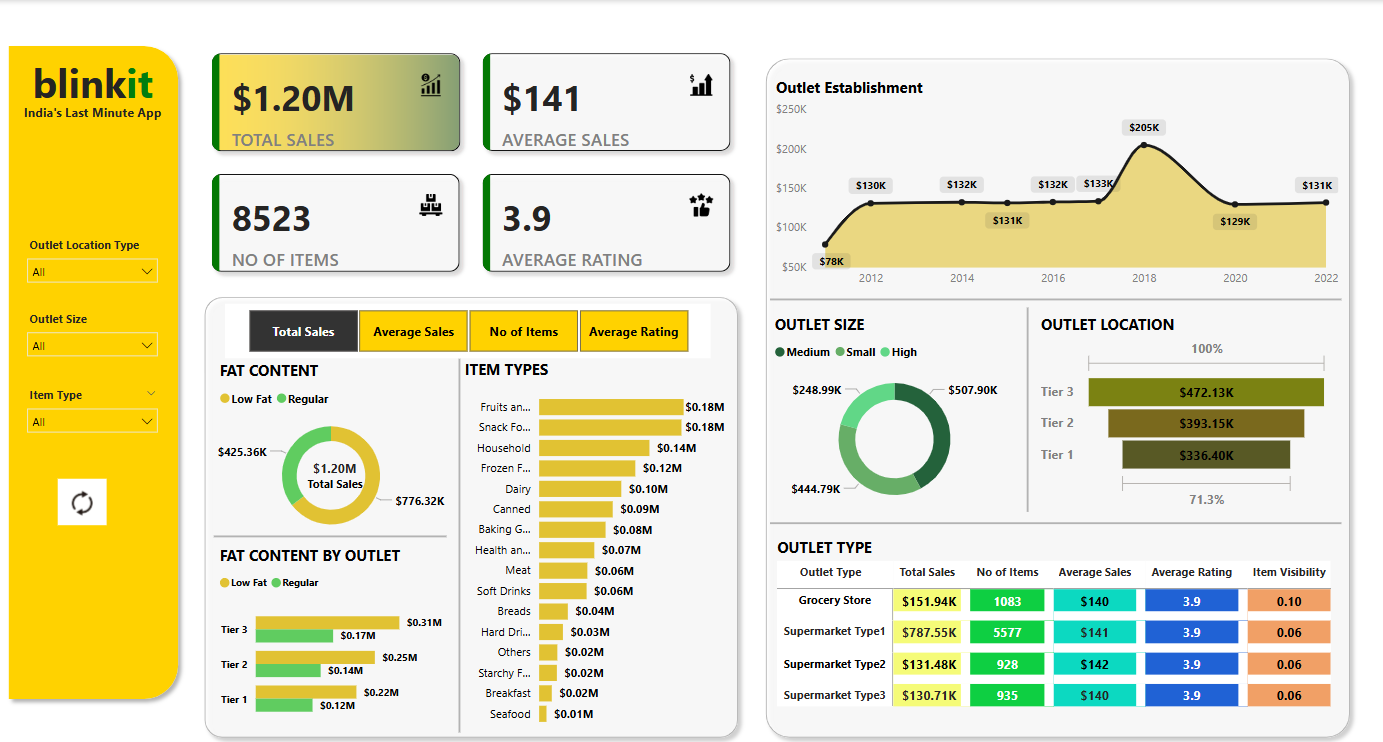

What the dashboard file says about the page in this screenshot:
{"tool":"powerbi","page":{"name":"Page 1","canvas":[1500,800],"ordinal":0},"visuals":[{"type":"shape","box":[0,40.9,200.3,719.5],"z":0},{"type":"textbox","box":[264.4,703.1,200.3,57.2],"z":1000},{"type":"textbox","box":[8.2,53.1,182.6,69.5],"z":2000},{"type":"textbox","box":[264.4,446.9,677.2,46.3],"z":3000},{"type":"textbox","box":[8.2,106.3,182.6,32.7],"z":4000},{"type":"cardVisual","fields":{"Data":["BlinkIT Grocery Data.Total Sales","BlinkIT Grocery Data.Average Sales","BlinkIT Grocery Data.No of Items sold","BlinkIT Grocery Data.Average Rating"]},"box":[209.8,40.9,590,269.8],"z":5000},{"type":"shape","box":[209.8,309.3,590,490.6],"z":6000},{"type":"donutChart","title":"FAT CONTENT","fields":{"Y":["BlinkIT Grocery Data.Total Sales"],"Category":["BlinkIT Grocery Data.Item Fat Content"]},"box":[234.4,385.6,249.4,200.3],"z":7000},{"type":"slicer","fields":{"Values":["Metrics.Metrics"]},"box":[241.2,325.7,520.5,58.6],"z":8000},{"type":"cardVisual","fields":{"Data":["BlinkIT Grocery Data.Total Sales"]},"box":[279.3,470.1,149.9,60],"z":9000},{"type":"clusteredBarChart","title":"FAT CONTENT BY OUTLET","fields":{"Y":["BlinkIT Grocery Data.Total Sales"],"Category":["BlinkIT Grocery Data.Outlet Location Type"],"Series":["BlinkIT Grocery Data.Item Fat Content"]},"box":[230.3,584.6,249.4,200.3],"z":10000},{"type":"shape","box":[228.9,565.5,249.4,19.1],"z":11000},{"type":"shape","box":[483.7,384.3,17.7,403.3],"z":12000},{"type":"barChart","title":"ITEM TYPES","fields":{"Y":["BlinkIT Grocery Data.Total Sales"],"Category":["BlinkIT Grocery Data.Item Type"]},"box":[493.3,384.3,288.9,403.3],"z":13000},{"type":"shape","box":[812.1,53.1,644.5,746.7],"z":14000},{"type":"lineChart","title":"Outlet Establishment","fields":{"Y":["BlinkIT Grocery Data.Total Sales"],"Category":["BlinkIT Grocery Data.Outlet Establishment Year"]},"box":[827.1,81.8,613.2,234.4],"z":15000},{"type":"shape","box":[825.8,316.1,613.2,9.5],"z":16000},{"type":"donutChart","title":"OUTLET SIZE","fields":{"Y":["BlinkIT Grocery Data.Total Sales"],"Category":["BlinkIT Grocery Data.Outlet Size"]},"box":[825.8,336.6,267.1,219.4],"z":17000},{"type":"funnel","title":"OUTLET LOCATION","fields":{"Category":["BlinkIT Grocery Data.Outlet Location Type"],"Y":["BlinkIT Grocery Data.Total Sales"]},"box":[1111.9,336.6,318.9,213.9],"z":18000},{"type":"shape","box":[1092.8,329.8,19.1,219.4],"z":19000},{"type":"shape","box":[825.8,556,613.2,9.5],"z":20000},{"type":"pivotTable","title":"OUTLET TYPE","fields":{"Rows":["BlinkIT Grocery Data.Outlet Type"],"Values":["BlinkIT Grocery Data.Total Sales","BlinkIT Grocery Data.No of Items","BlinkIT Grocery Data.Average Sales","BlinkIT Grocery Data.Average Rating","Avg(BlinkIT Grocery Data.Item Visibility)"]},"box":[828.5,575,607.7,194.9],"z":21000},{"type":"slicer","fields":{"Values":["BlinkIT Grocery Data.Outlet Location Type"]},"box":[19.1,249.4,160.8,72.2],"z":22000},{"type":"slicer","fields":{"Values":["BlinkIT Grocery Data.Outlet Size"]},"box":[19.1,328.4,160.8,72.2],"z":22001},{"type":"slicer","fields":{"Values":["BlinkIT Grocery Data.Item Type"]},"box":[19.1,410.2,160.8,72.2],"z":22002},{"type":"actionButton","box":[55.9,504.2,64,61.3],"z":22003}]}

Visuals, with their boxes in screenshot pixels (x1, y1, x2, y2), scaled from the page's 1500x800 canvas onto the 1383x742 screenshot:
shape: [0, 38, 185, 705]
textbox: [244, 652, 428, 705]
textbox: [8, 49, 176, 114]
textbox: [244, 414, 868, 457]
textbox: [8, 99, 176, 129]
cardVisual - BlinkIT Grocery Data.Total Sales x BlinkIT Grocery Data.Average Sales: [193, 38, 737, 288]
shape: [193, 287, 737, 741]
"FAT CONTENT" donutChart: [216, 358, 446, 543]
slicer - Metrics.Metrics: [222, 302, 702, 356]
cardVisual - BlinkIT Grocery Data.Total Sales: [258, 436, 396, 492]
"FAT CONTENT BY OUTLET" clusteredBarChart: [212, 542, 442, 728]
shape: [211, 525, 441, 542]
shape: [446, 356, 462, 730]
"ITEM TYPES" barChart: [455, 356, 721, 730]
shape: [749, 49, 1343, 741]
"Outlet Establishment" lineChart: [763, 76, 1328, 293]
shape: [761, 293, 1327, 302]
"OUTLET SIZE" donutChart: [761, 312, 1008, 516]
"OUTLET LOCATION" funnel: [1025, 312, 1319, 511]
shape: [1008, 306, 1025, 509]
shape: [761, 516, 1327, 525]
"OUTLET TYPE" pivotTable: [764, 533, 1324, 714]
slicer - BlinkIT Grocery Data.Outlet Location Type: [18, 231, 166, 298]
slicer - BlinkIT Grocery Data.Outlet Size: [18, 305, 166, 372]
slicer - BlinkIT Grocery Data.Item Type: [18, 380, 166, 447]
actionButton: [52, 468, 111, 525]
